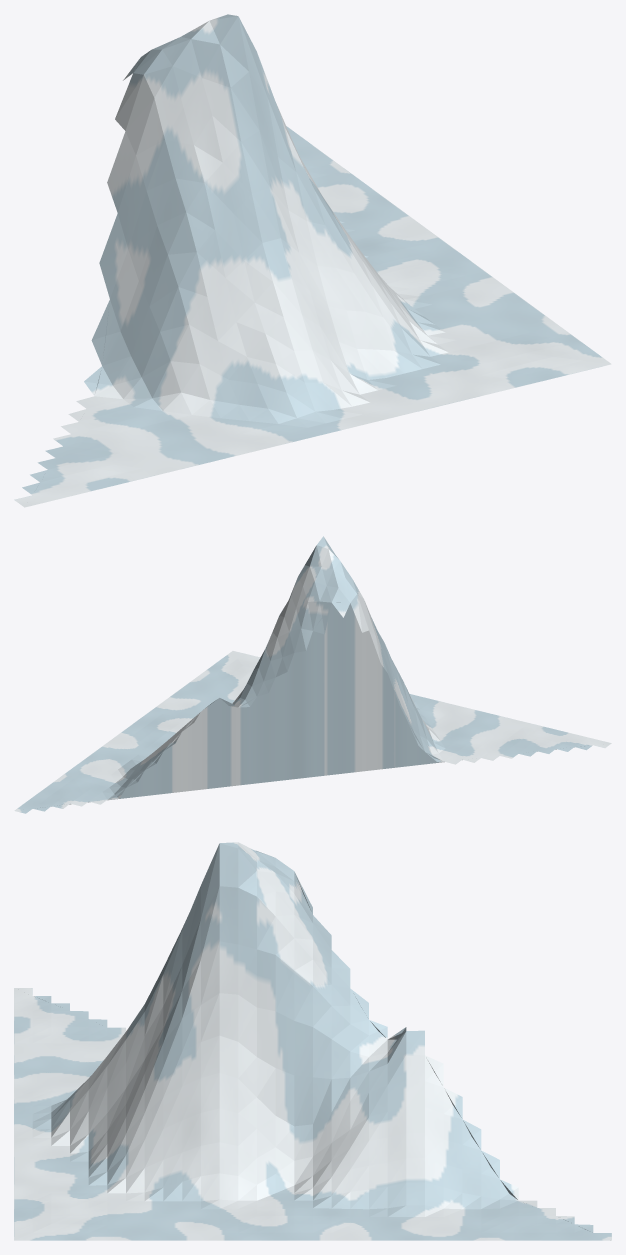
The model's file is Snow_Mountains_08_NE.obj.
3 views of the same model, one above another, from view 1: azimuth 30°, elevation 25°; view 2: azimuth 150°, elevation 25°; view 3: azimuth 270°, elevation 25° (orthographic). The views are drawn at different scales.
Bounding box in the file's own units: 10 × 5.3 × 10.
1 material, 1 textured.
